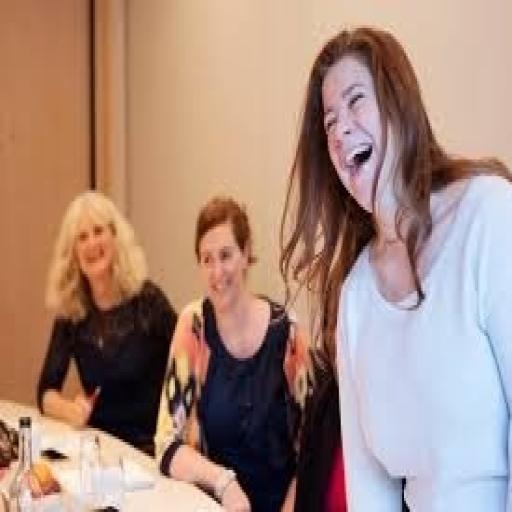laughing: (28, 20, 508, 506)
